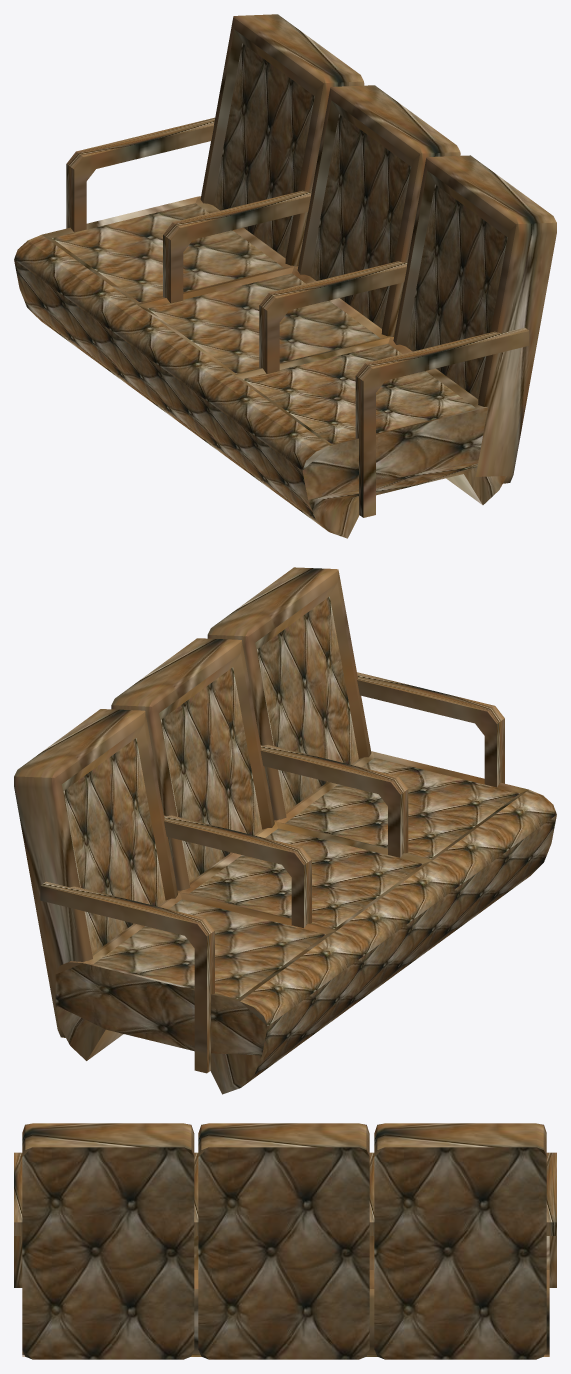
File: sofa.fbx
The picture shows the model from 3 angles, top to bottom: view 1: azimuth 30°, elevation 25°; view 2: azimuth 150°, elevation 25°; view 3: azimuth 270°, elevation 25°; orthographic projection. The views are drawn at different scales.
Visible parts, largest first — view 1: pCube149, pCube161, pCube153, pCube160, polySurface40, polySurface39, polySurface41, polySurface42; view 2: pCube149, pCube153, pCube161, pCube160, polySurface39, polySurface40, polySurface41, polySurface42; view 3: pCube153, pCube161, pCube160, pCube149, polySurface39, polySurface40, polySurface42, polySurface41.
Boxes of the visible parts, <box> form: pCube149: <box>14,196,506,538</box>; pCube161: <box>393,155,556,483</box>; pCube153: <box>200,14,364,266</box>; pCube160: <box>297,85,460,336</box>; polySurface40: <box>355,327,529,517</box>; polySurface39: <box>66,117,214,232</box>; polySurface41: <box>259,261,407,373</box>; polySurface42: <box>163,190,311,303</box>; pCube149: <box>55,751,556,1094</box>; pCube153: <box>14,709,177,1037</box>; pCube161: <box>207,567,371,820</box>; pCube160: <box>111,638,274,890</box>; polySurface39: <box>40,881,214,1073</box>; polySurface40: <box>357,672,504,787</box>; polySurface41: <box>260,744,408,857</box>; polySurface42: <box>164,815,311,928</box>; pCube153: <box>374,1123,546,1359</box>; pCube161: <box>22,1123,194,1359</box>; pCube160: <box>198,1123,369,1359</box>; pCube149: <box>22,1236,549,1356</box>; polySurface39: <box>546,1152,556,1287</box>; polySurface40: <box>14,1152,22,1287</box>; polySurface42: <box>369,1152,374,1235</box>; polySurface41: <box>194,1152,198,1235</box>.
Size of the model in its own units: 87.22 by 89.2 by 175.
